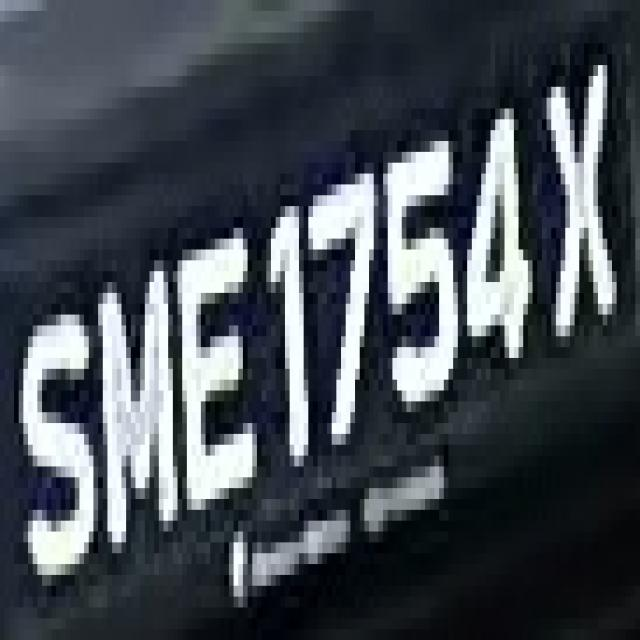1: (262, 163, 318, 488)
4: (453, 87, 537, 390)
5: (378, 87, 468, 456)
6: (299, 184, 388, 510)
E: (164, 195, 266, 510)
M: (84, 217, 187, 564)
S: (14, 271, 98, 586)
X: (537, 33, 617, 347)
